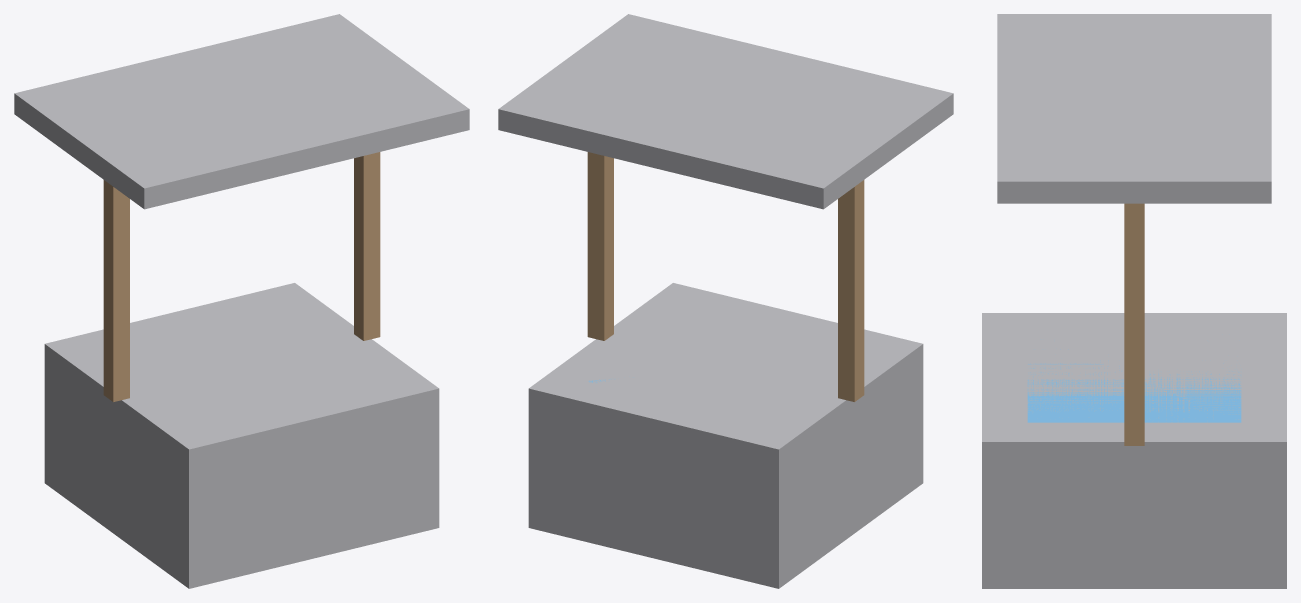
The model's file is Prop_Water_AMF_Well_V8.glb.
The picture shows the model from 3 angles, left to right: view 1: azimuth 30°, elevation 25°; view 2: azimuth 150°, elevation 25°; view 3: azimuth 270°, elevation 25°; orthographic projection. The views are drawn at different scales.
Parts seen in each view (by area): view 1: Prop_Water_AMF_Well_V8; view 2: Prop_Water_AMF_Well_V8; view 3: Prop_Water_AMF_Well_V8.
Boxes of the visible parts, x1,y1,x2,y2 form: Prop_Water_AMF_Well_V8: [14, 14, 469, 588]; Prop_Water_AMF_Well_V8: [498, 14, 953, 588]; Prop_Water_AMF_Well_V8: [982, 14, 1286, 588].
Bounding box in the file's own units: 1.95 × 2.32 × 1.5.
